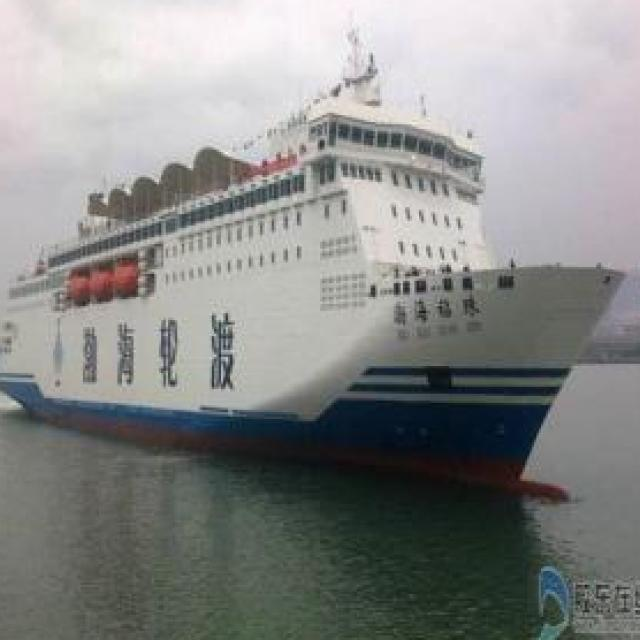passenger ship: (2, 71, 624, 486)
